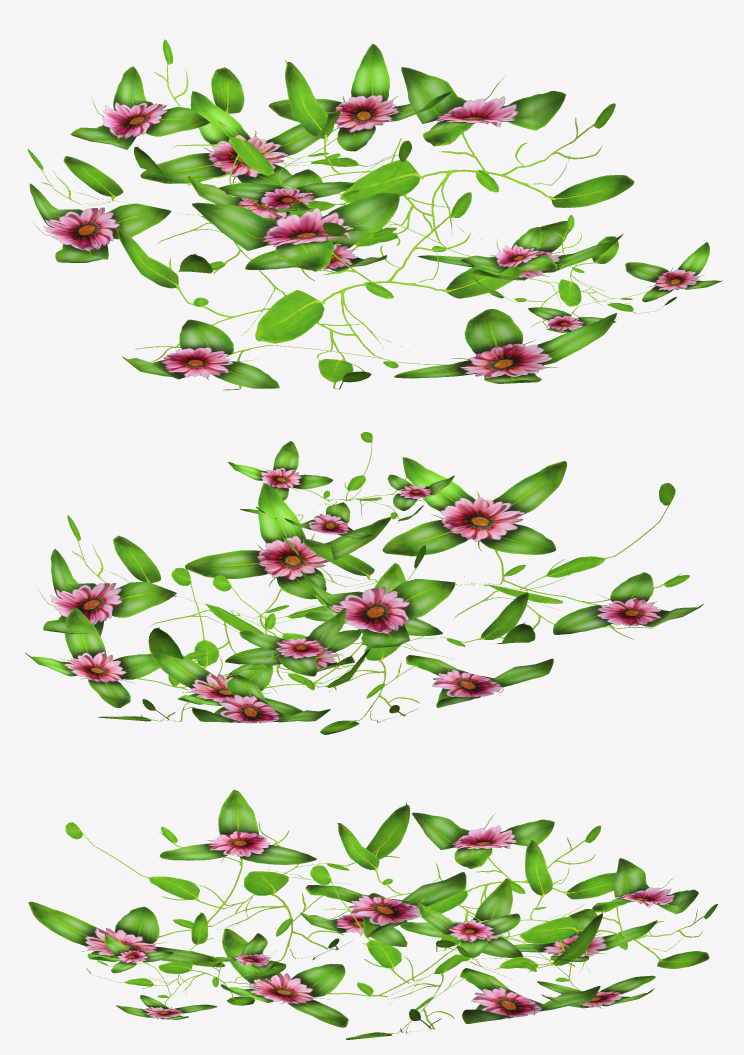
File: leafplant8_lod0.fbx
3 views of the same model, one above another, from view 1: azimuth 30°, elevation 25°; view 2: azimuth 150°, elevation 25°; view 3: azimuth 270°, elevation 25° (orthographic). The views are drawn at different scales.
Visible parts, largest first — view 1: Mesh Object; view 2: Mesh Object; view 3: Mesh Object.
Part boxes in pixels (x1,y1,x2,y2): Mesh Object: [27, 39, 722, 390]; Mesh Object: [25, 432, 703, 734]; Mesh Object: [28, 790, 717, 1039].
Size of the model in its own units: 2.19 by 0.3748 by 2.58.
